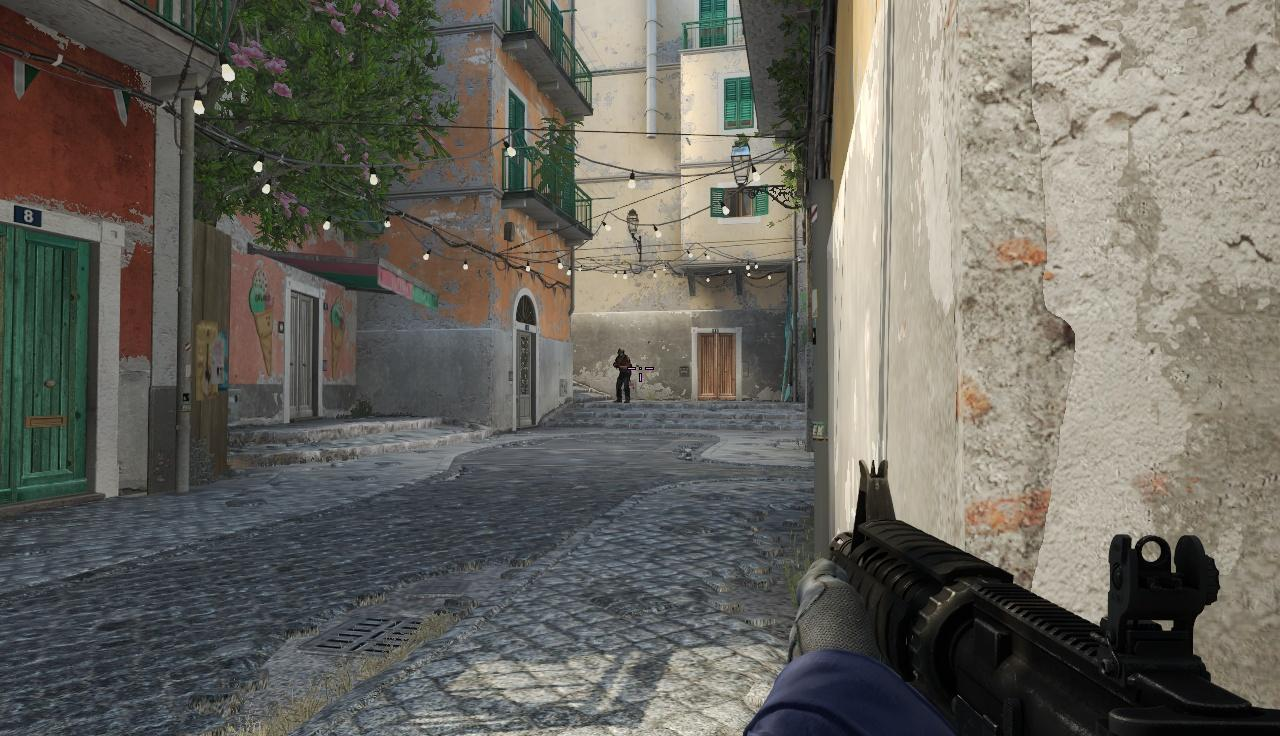rifle: (818, 461, 1280, 736)
tt: (614, 349, 632, 404)
tthead: (617, 348, 625, 359)
